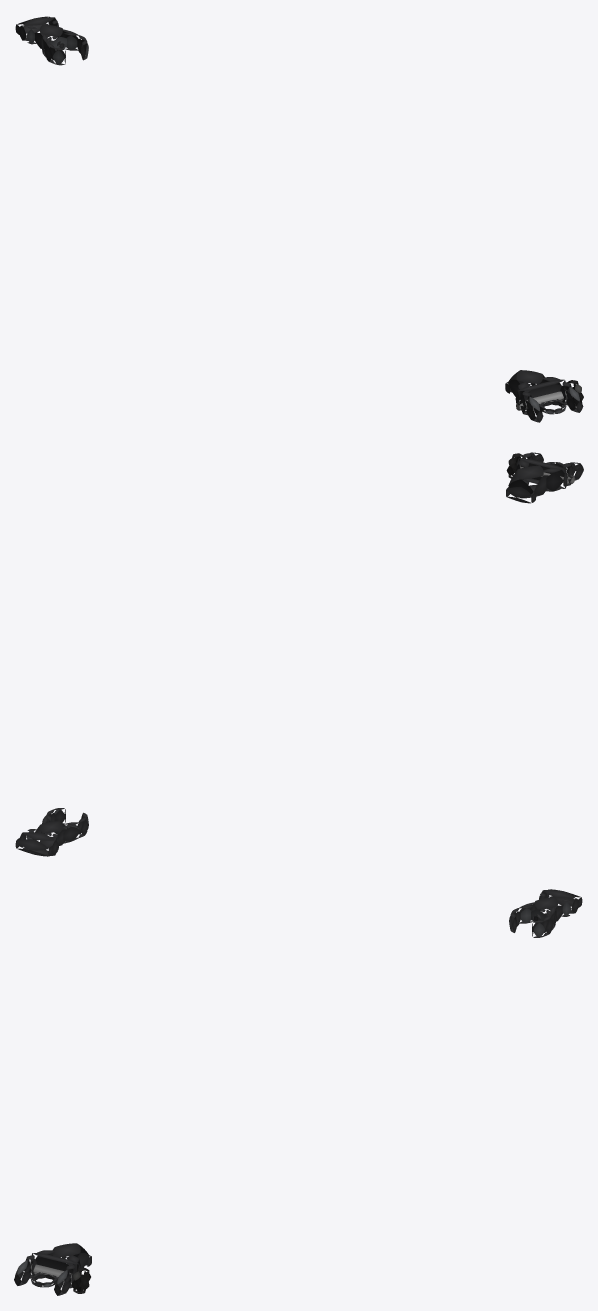
File: udp_9_sight_folded.fbx
3 renders of one model, top to bottom at view 1: azimuth 30°, elevation 25°; view 2: azimuth 150°, elevation 25°; view 3: azimuth 330°, elevation 25°, orthographic.
Parts seen in each view (by area): view 1: cube, cube_1, cube_12; view 2: cube; view 3: cube, cube_12.
Boxes of the visible parts, x1,y1,x2,y2 form: cube: (508, 370, 547, 399); cube_1: (515, 379, 566, 409); cube_12: (34, 24, 67, 50); cube: (508, 465, 548, 498); cube: (49, 1243, 89, 1271); cube_12: (530, 897, 562, 923).
Size of the model in its own units: 6.45 by 2.44 by 98.71.
Materials: 1 (1 with a texture image).
